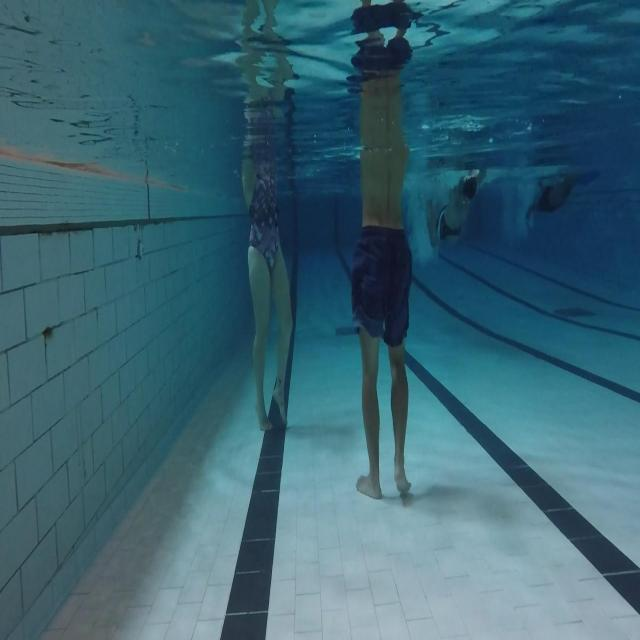human: (347, 1, 415, 499), (240, 113, 295, 432), (524, 165, 600, 232), (425, 172, 478, 248)
